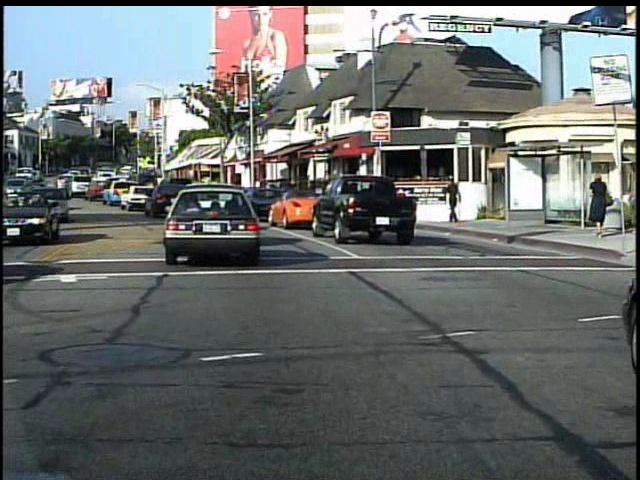person: (584, 169, 613, 241), (443, 180, 459, 231)
